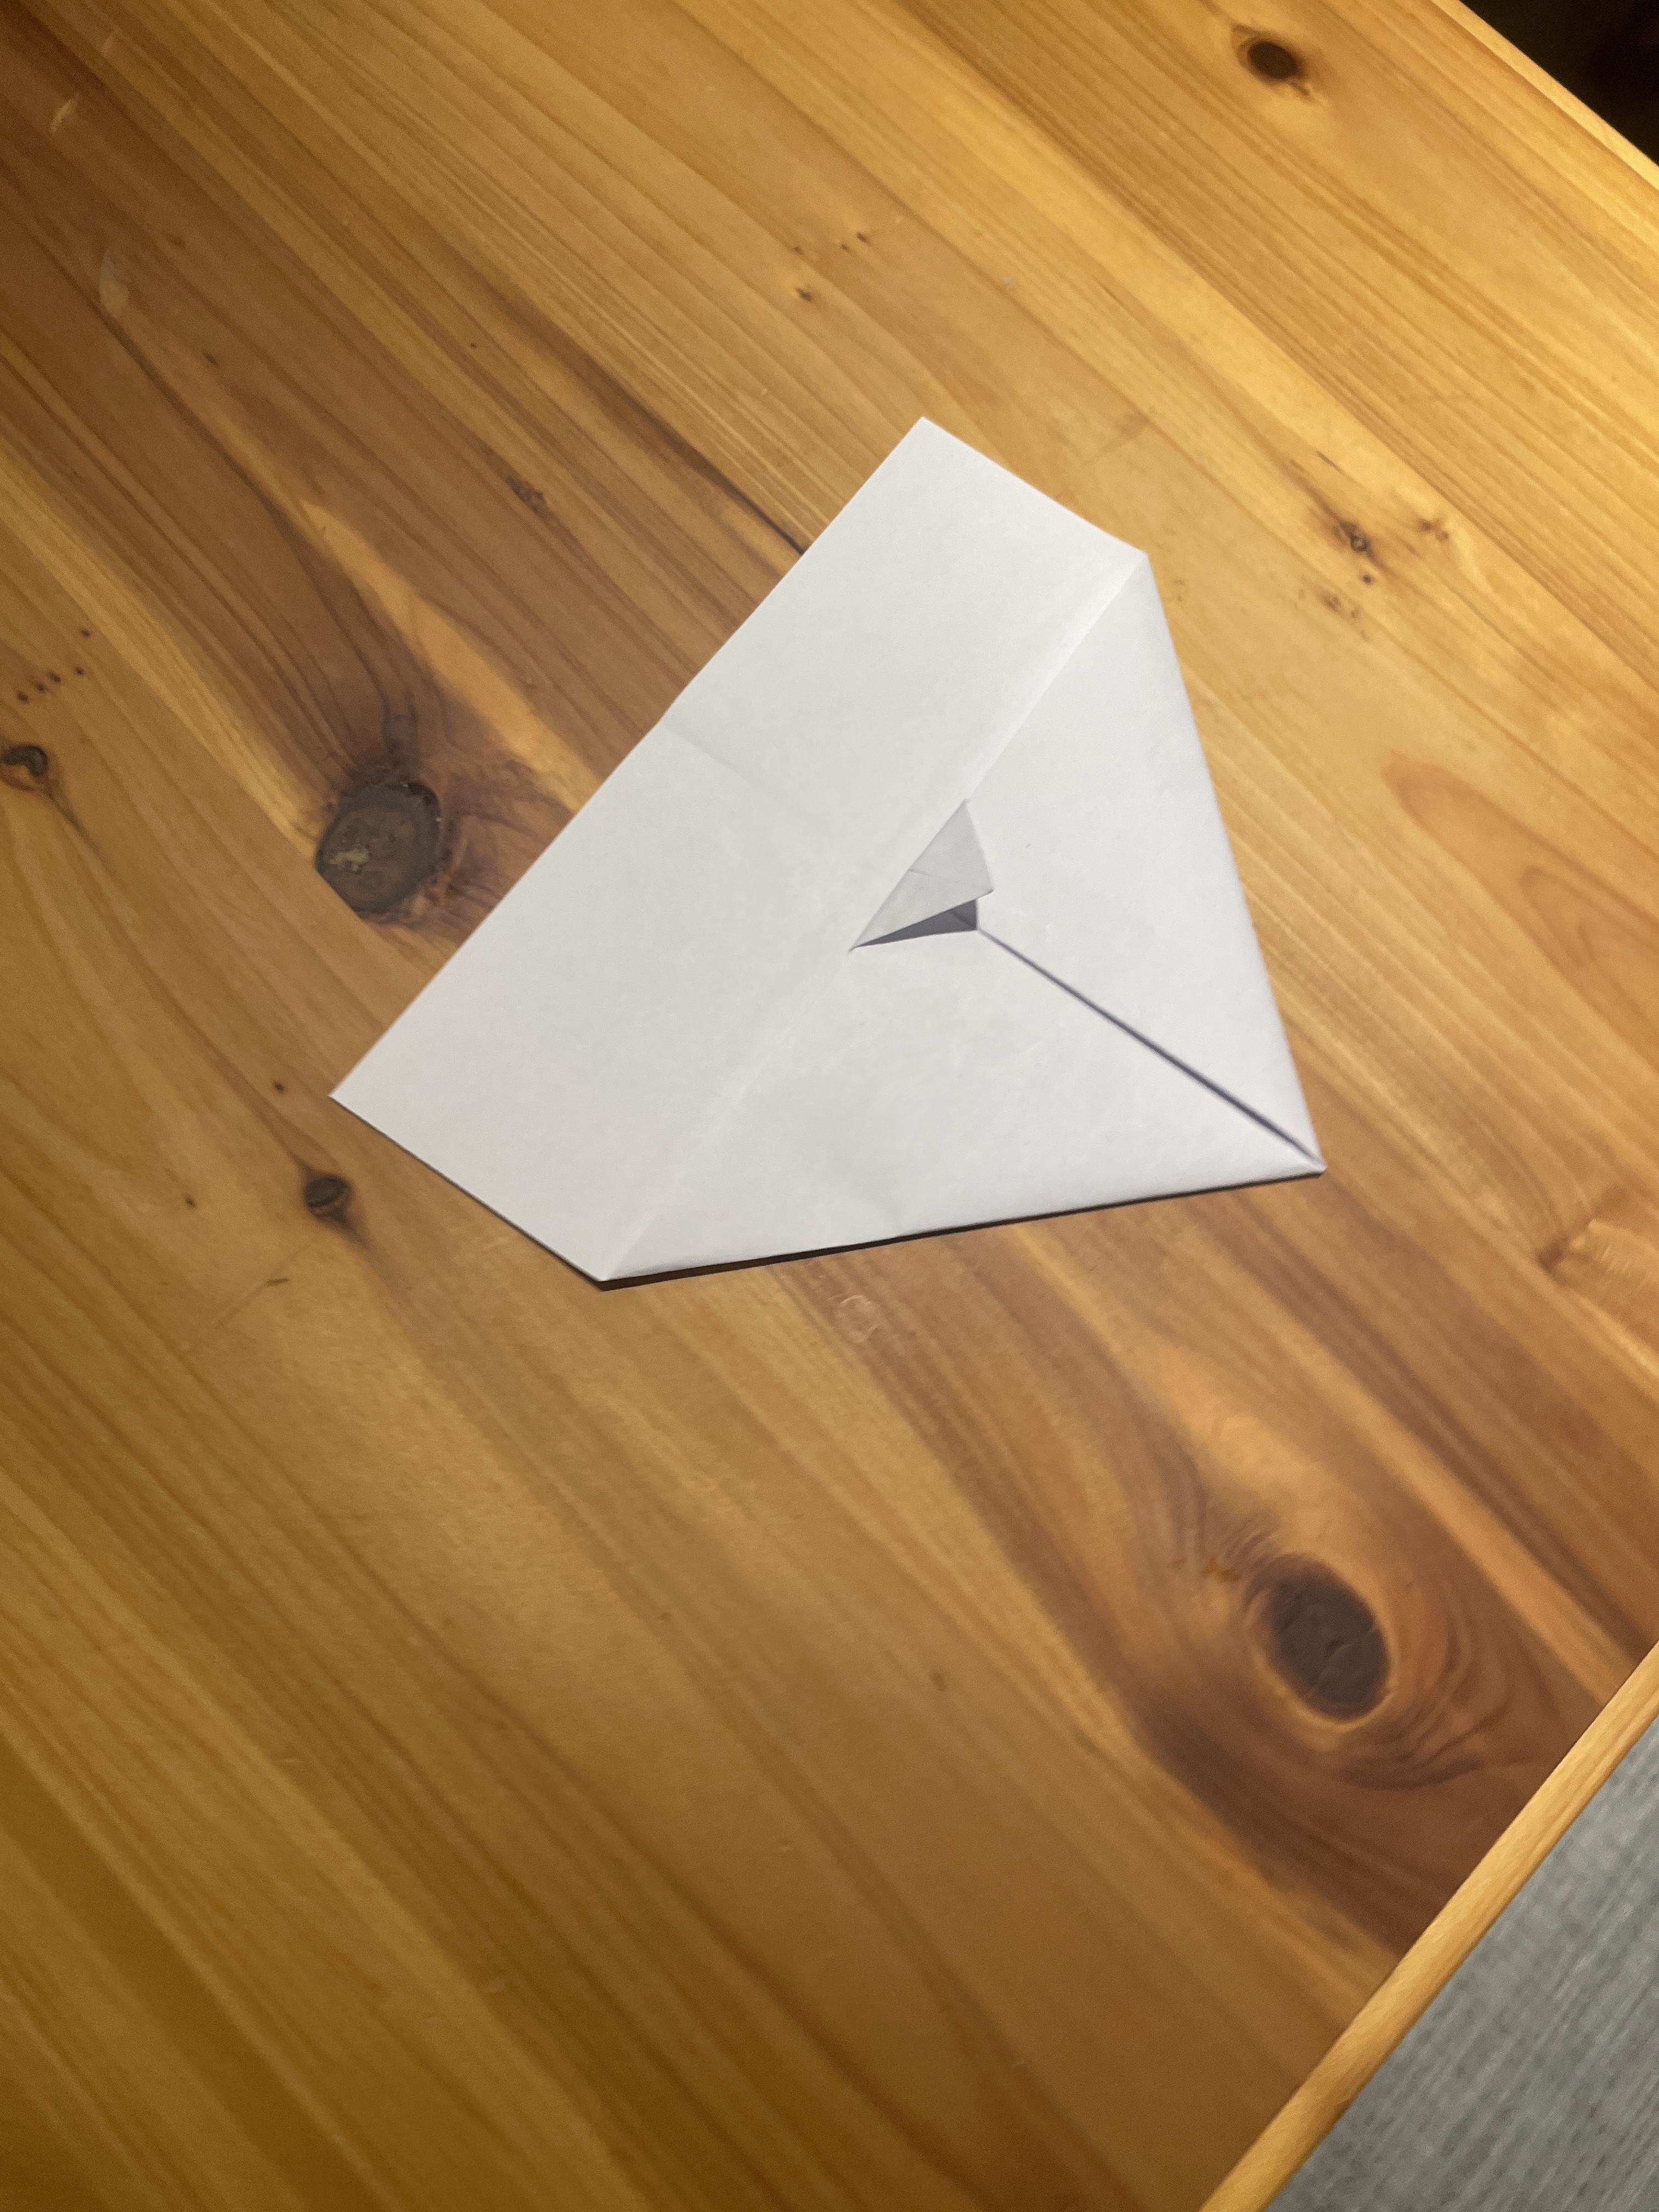shape_2: (230, 280, 1412, 1406)
